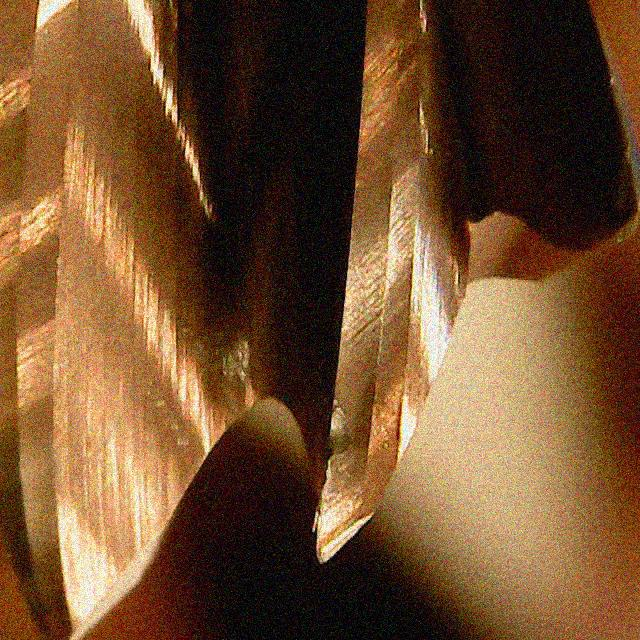Tool-wear-class-1: (300, 238, 455, 571)
